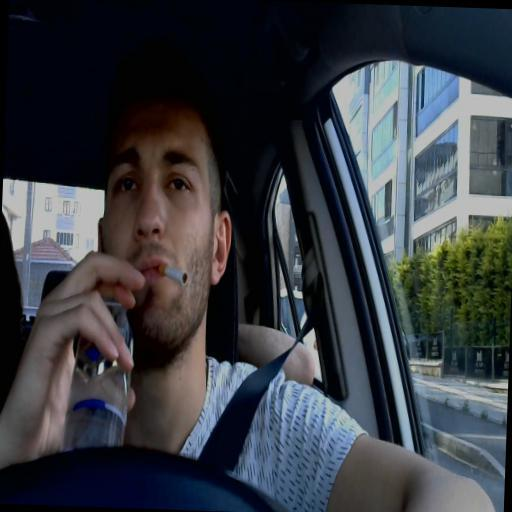Drinking: (45, 107, 232, 447)
